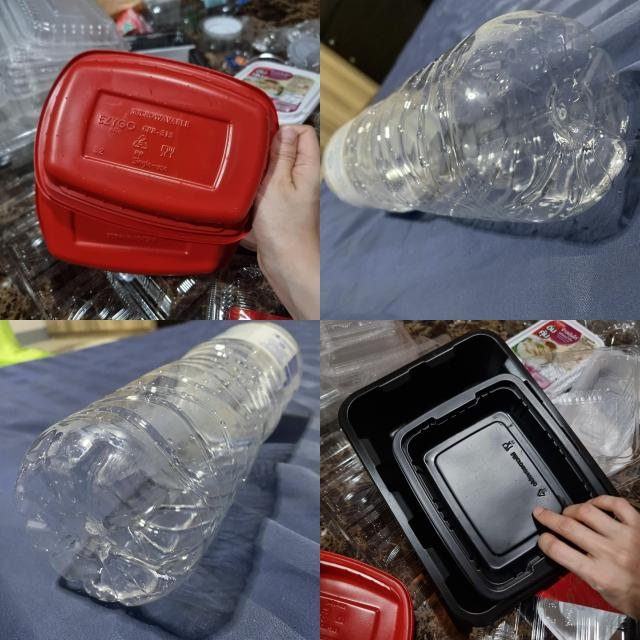Single-Use-Plastic: (339, 330, 615, 625), (35, 51, 278, 242), (36, 186, 238, 275), (320, 550, 414, 640)
